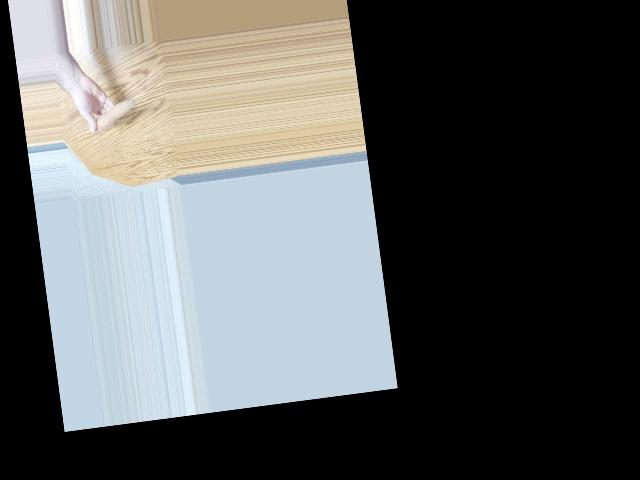sweet_potato: (84, 93, 140, 135)
